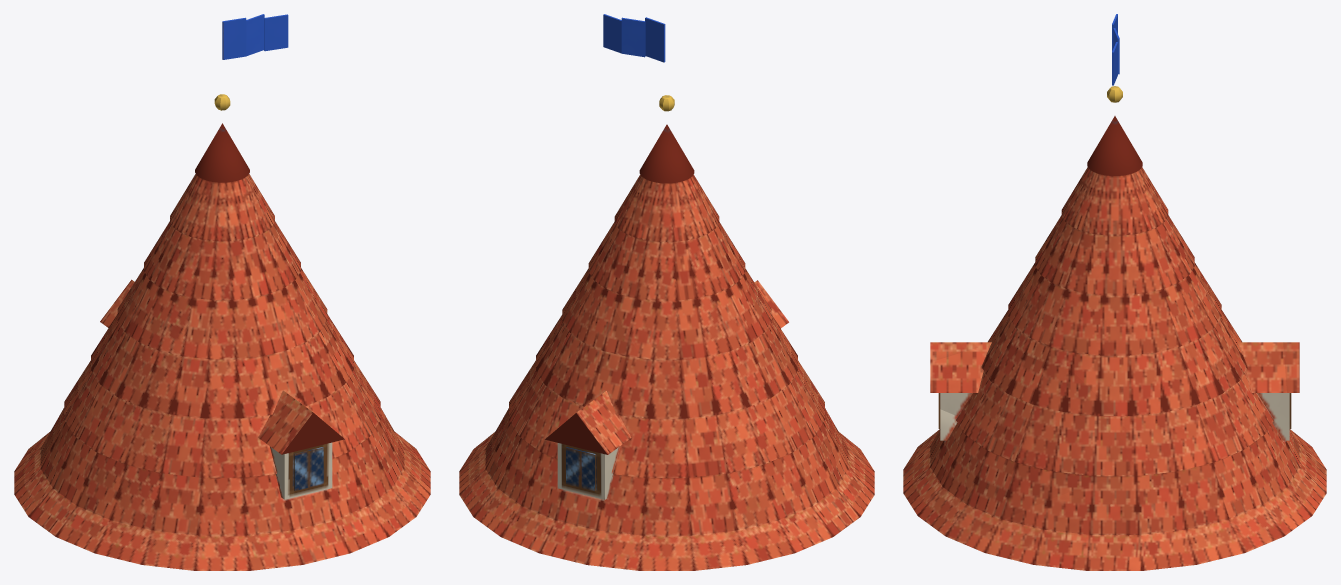
Rendered from Kit_Tower_Roof_Fractured.fbx.
3 views of the same model, side by side, from view 1: azimuth 30°, elevation 25°; view 2: azimuth 150°, elevation 25°; view 3: azimuth 270°, elevation 25° (orthographic).
Parts seen in each view (by area): view 1: Kit_Tower_Roof_frag_01, Kit_Tower_Roof_frag_04, Kit_Tower_Roof_frag_07, Kit_Tower_Roof_frag_02, Kit_Tower_Roof_frag_05, Kit_Tower_Roof_frag_08, Kit_Tower_Roof_frag_03, Kit_Tower_Roof_frag_09; view 2: Kit_Tower_Roof_frag_08, Kit_Tower_Roof_frag_04, Kit_Tower_Roof_frag_09, Kit_Tower_Roof_frag_06, Kit_Tower_Roof_frag_02, Kit_Tower_Roof_frag_01, Kit_Tower_Roof_frag_05; view 3: Kit_Tower_Roof_frag_07, Kit_Tower_Roof_frag_09, Kit_Tower_Roof_frag_06, Kit_Tower_Roof_frag_02, Kit_Tower_Roof_frag_03, Kit_Tower_Roof_frag_05, Kit_Tower_Roof_frag_08, Kit_Tower_Roof_frag_01, Kit_Tower_Roof_frag_04.
Boxes of the visible parts, x1,y1,x2,y2 form: Kit_Tower_Roof_frag_01: [38, 398, 374, 570]; Kit_Tower_Roof_frag_04: [91, 227, 312, 419]; Kit_Tower_Roof_frag_07: [290, 324, 419, 542]; Kit_Tower_Roof_frag_02: [166, 192, 315, 317]; Kit_Tower_Roof_frag_05: [180, 14, 288, 214]; Kit_Tower_Roof_frag_08: [14, 279, 134, 523]; Kit_Tower_Roof_frag_03: [391, 426, 430, 510]; Kit_Tower_Roof_frag_09: [310, 286, 333, 342]; Kit_Tower_Roof_frag_08: [518, 391, 843, 570]; Kit_Tower_Roof_frag_04: [613, 225, 798, 424]; Kit_Tower_Roof_frag_09: [525, 275, 662, 456]; Kit_Tower_Roof_frag_06: [459, 376, 549, 544]; Kit_Tower_Roof_frag_02: [584, 194, 721, 304]; Kit_Tower_Roof_frag_01: [754, 280, 874, 529]; Kit_Tower_Roof_frag_05: [603, 14, 707, 219]; Kit_Tower_Roof_frag_07: [912, 335, 1140, 540]; Kit_Tower_Roof_frag_09: [1021, 279, 1286, 445]; Kit_Tower_Roof_frag_06: [1129, 427, 1318, 570]; Kit_Tower_Roof_frag_02: [1034, 187, 1197, 322]; Kit_Tower_Roof_frag_03: [956, 472, 1140, 570]; Kit_Tower_Roof_frag_05: [1075, 14, 1156, 204]; Kit_Tower_Roof_frag_08: [1262, 342, 1326, 505]; Kit_Tower_Roof_frag_01: [903, 340, 988, 507]; Kit_Tower_Roof_frag_04: [972, 243, 1211, 350].
Size of what is drawn, in the model's own units: 5.45 by 6.65 by 5.45.
